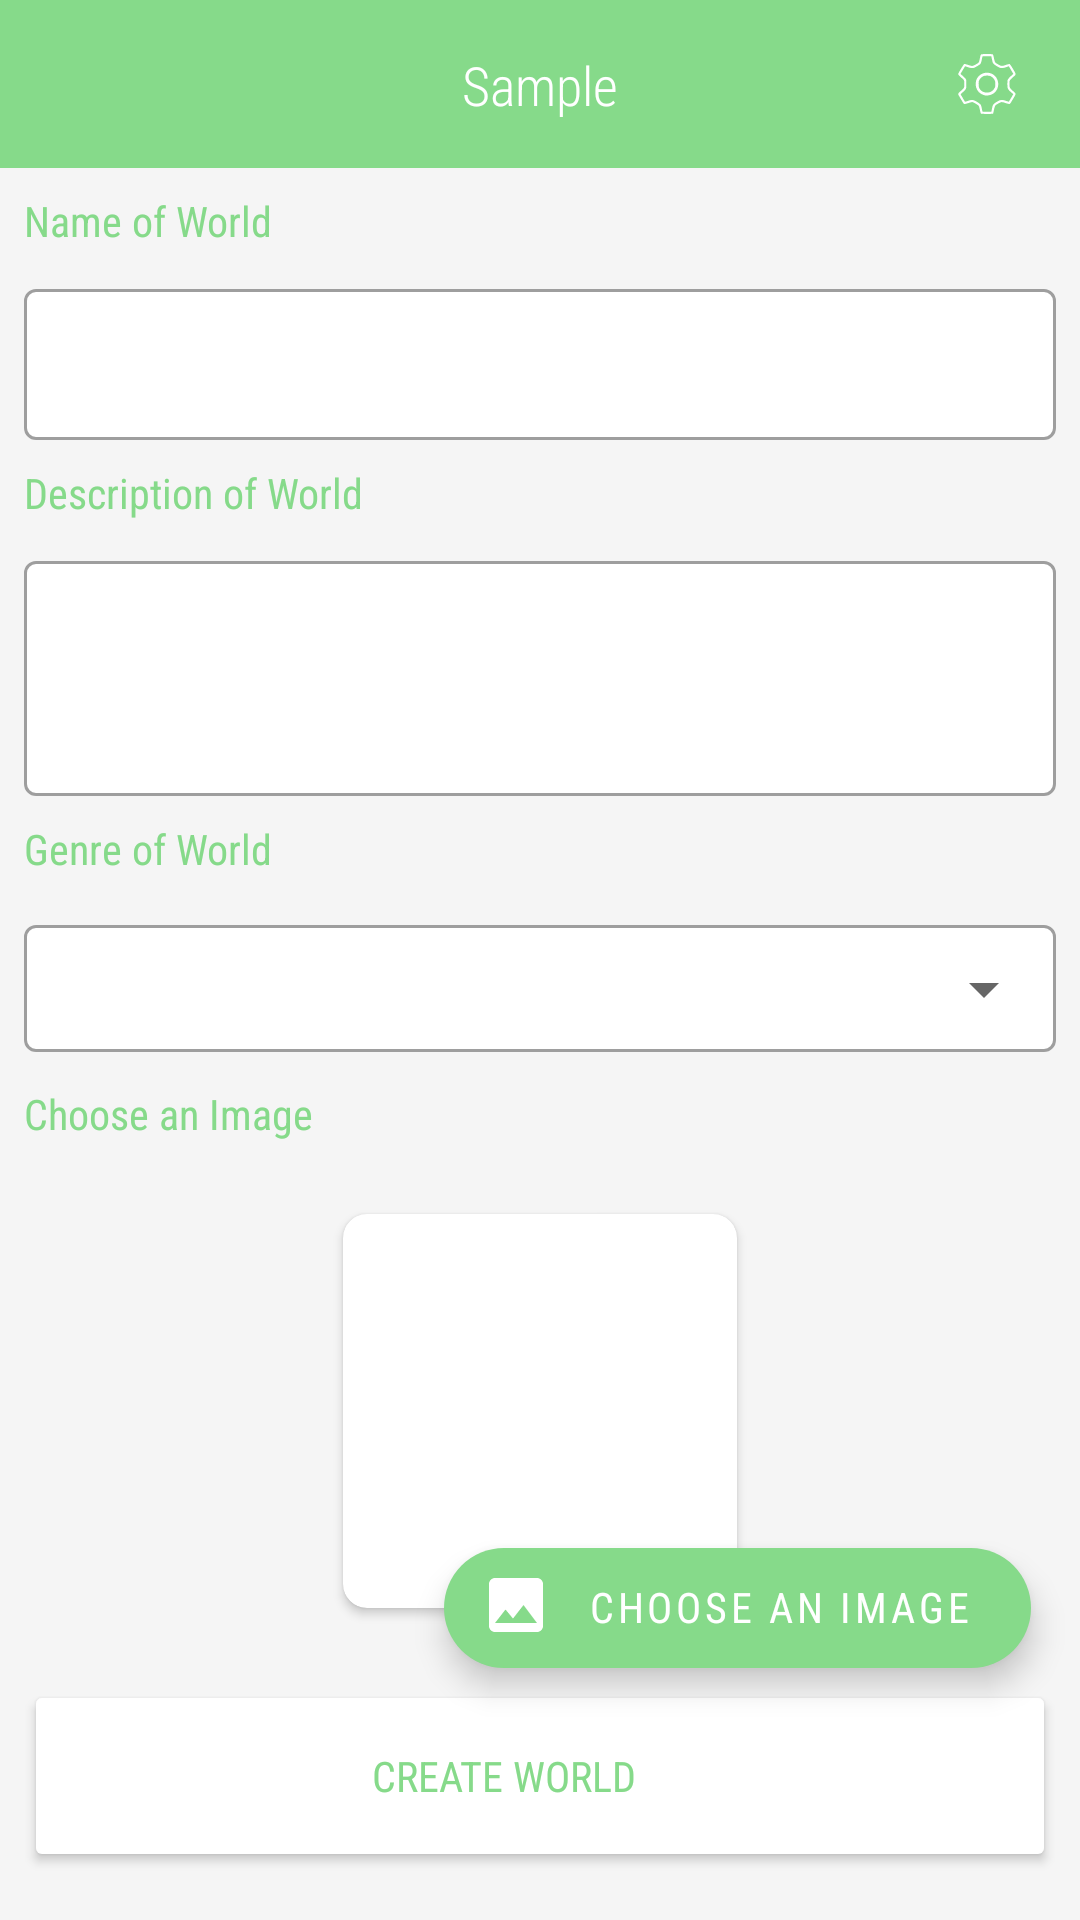

Named icons in this screenshot (1080px x 1920px) and their bounding boxes, (x1, y1, x2, y2):
Settings Button: (958, 54, 1016, 114)
